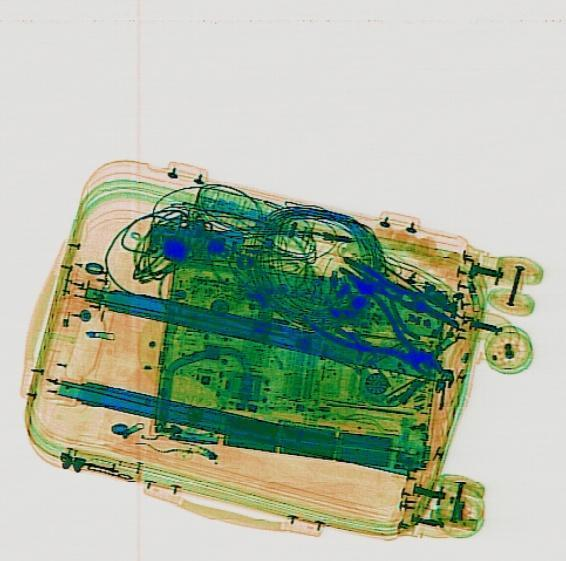Pliers: (308, 271, 460, 401), (333, 252, 464, 338)
